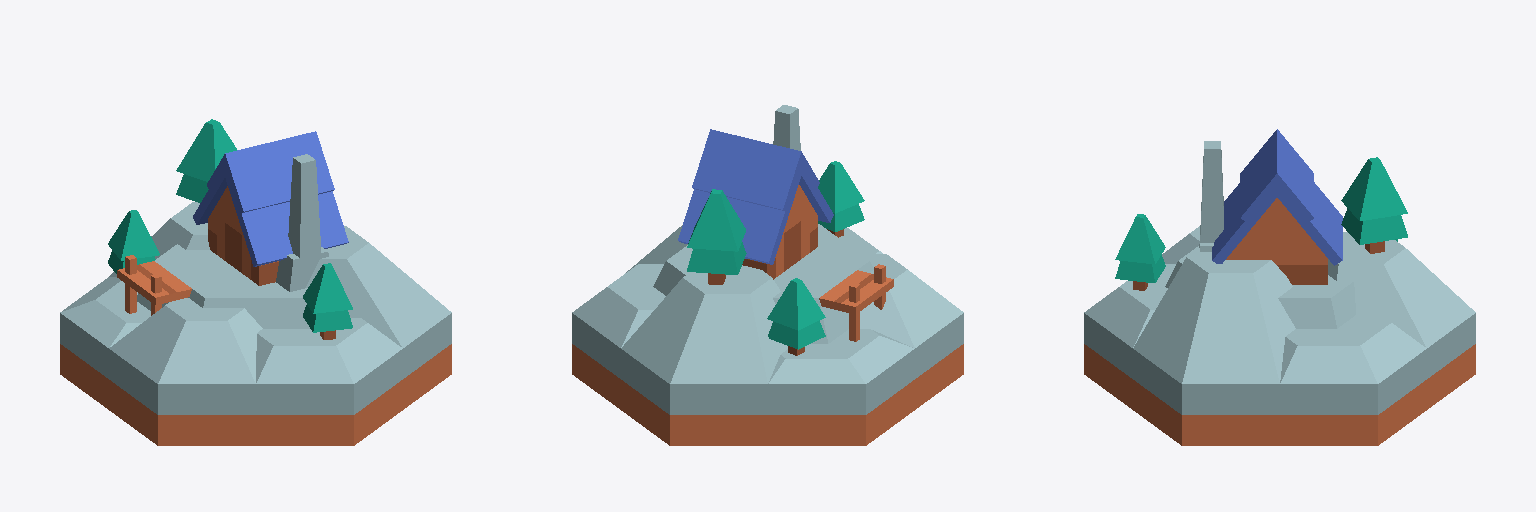
Rendered from building_cabin.obj.
The picture shows the model from 3 angles: view 1: azimuth 30°, elevation 25°; view 2: azimuth 150°, elevation 25°; view 3: azimuth 270°, elevation 25°; orthographic projection.
Visible parts, largest first — view 1: rockLarge, building_cabin, building, tree, chimney, dock; view 2: rockLarge, building_cabin, building, tree, dock, chimney; view 3: rockLarge, building_cabin, building, tree, chimney.
Boxes of the visible parts, box(x1,y1,x2,y2) form: rockLarge: box(60, 202, 451, 383); building_cabin: box(60, 313, 451, 445); building: box(193, 131, 348, 285); tree: box(108, 119, 352, 339); chimney: box(276, 154, 328, 291); dock: box(117, 255, 191, 315); rockLarge: box(572, 224, 963, 383); building_cabin: box(572, 313, 963, 445); building: box(678, 129, 833, 279); tree: box(687, 161, 864, 355); dock: box(819, 264, 893, 341); chimney: box(773, 105, 800, 150); rockLarge: box(1084, 226, 1475, 383); building_cabin: box(1084, 313, 1475, 445); building: box(1212, 129, 1342, 284); tree: box(1115, 157, 1407, 290); chimney: box(1199, 141, 1223, 251).
Bounding box in the file's own units: 1 × 0.7684 × 1.15.